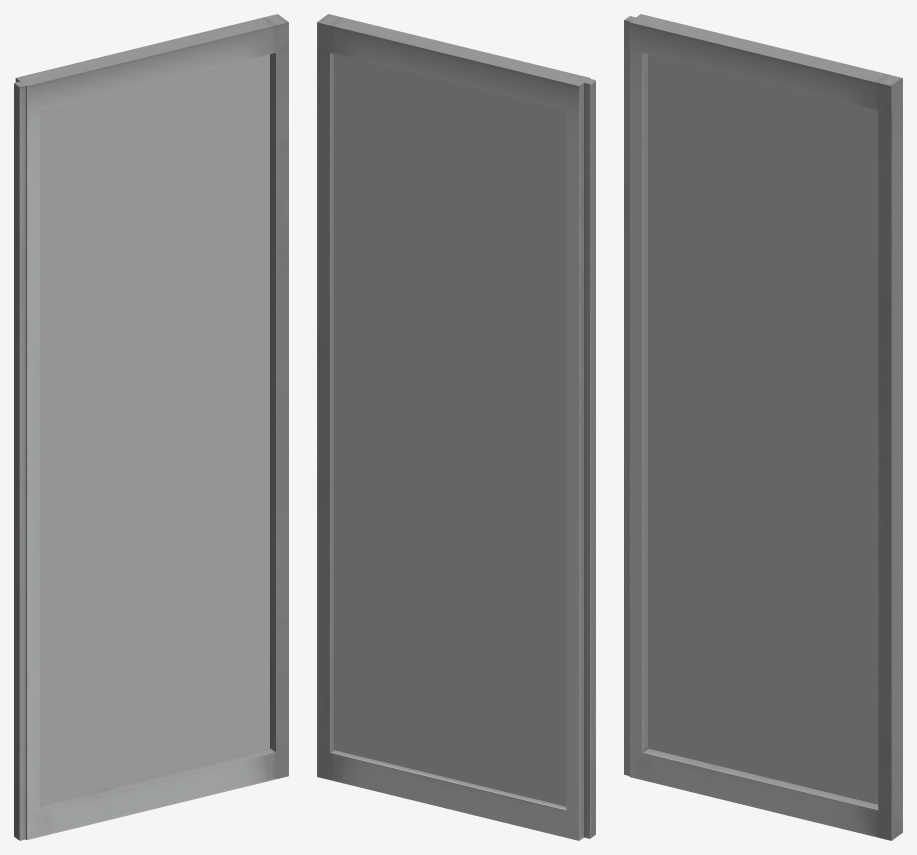
Rendered from SM_Arc_DoorPrincipalRight_A_V3.fbx.
3 renders of one model, left to right at view 1: azimuth 30°, elevation 25°; view 2: azimuth 150°, elevation 25°; view 3: azimuth 330°, elevation 25°, orthographic.
Parts seen in each view (by area): view 1: SM_Arc_DoorPrincipalRight_A_V3; view 2: SM_Arc_DoorPrincipalRight_A_V3; view 3: SM_Arc_DoorPrincipalRight_A_V3.
Part boxes in pixels (bbox=[...]): SM_Arc_DoorPrincipalRight_A_V3: bbox=[14, 14, 288, 840]; SM_Arc_DoorPrincipalRight_A_V3: bbox=[317, 14, 595, 840]; SM_Arc_DoorPrincipalRight_A_V3: bbox=[624, 14, 902, 840].
Bounding box in the file's own units: 121 × 8.89 × 326.
Materials: 2 (1 with a texture image).
